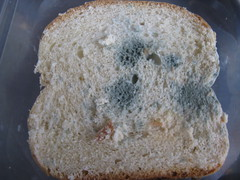mold_bread: (165, 78, 225, 123), (112, 27, 155, 69), (105, 74, 145, 113), (161, 47, 182, 72)
